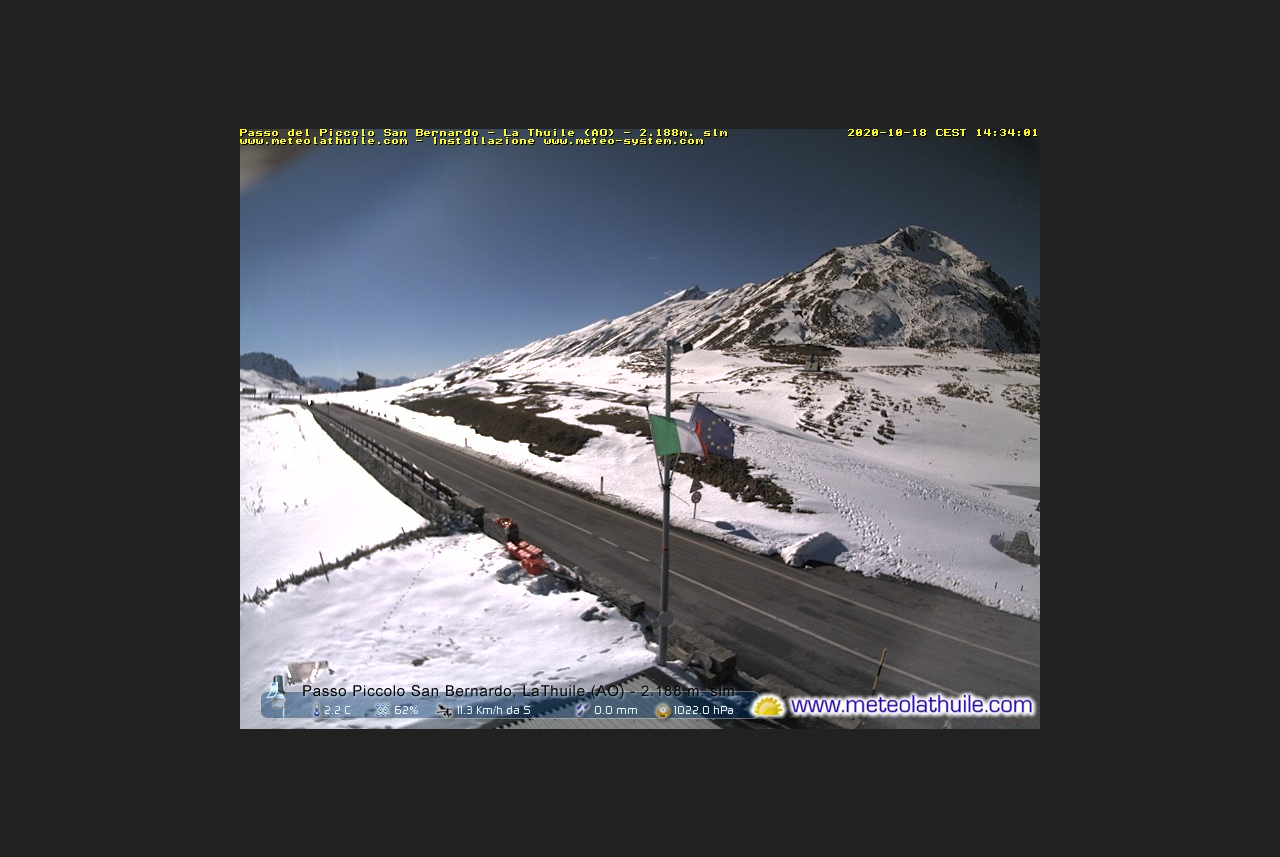yes: (643, 409, 716, 468), (693, 405, 737, 470)
